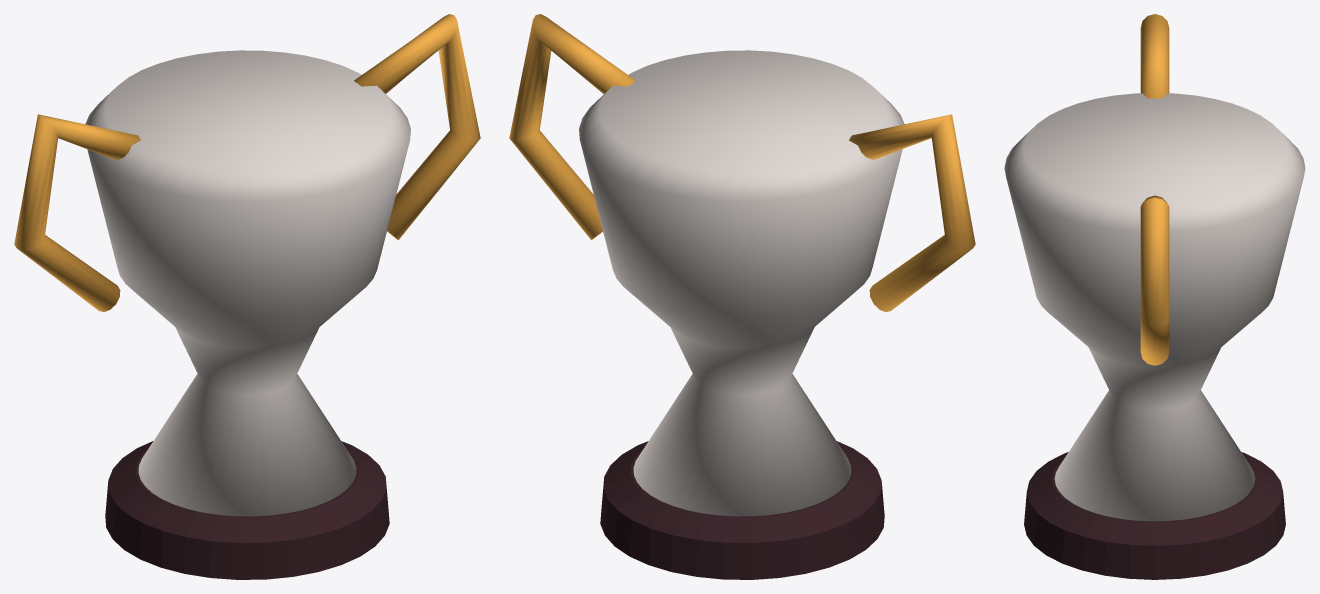
The model's file is gunners-cup-league-cup.glb.
The picture shows the model from 3 angles, left to right: view 1: azimuth 30°, elevation 25°; view 2: azimuth 150°, elevation 25°; view 3: azimuth 270°, elevation 25°; orthographic projection. The views are drawn at different scales.
Parts seen in each view (by area): view 1: gunners-cup-league-cup · Chased silver, gunners-cup-league-cup · Ebonized wood, gunners-cup-league-cup · Gilt; view 2: gunners-cup-league-cup · Chased silver, gunners-cup-league-cup · Ebonized wood, gunners-cup-league-cup · Gilt; view 3: gunners-cup-league-cup · Chased silver, gunners-cup-league-cup · Ebonized wood, gunners-cup-league-cup · Gilt.
Part boxes in pixels (<box>): gunners-cup-league-cup · Chased silver: <box>85,50,410,516</box>; gunners-cup-league-cup · Ebonized wood: <box>105,441,389,579</box>; gunners-cup-league-cup · Gilt: <box>14,14,480,311</box>; gunners-cup-league-cup · Chased silver: <box>579,50,904,516</box>; gunners-cup-league-cup · Ebonized wood: <box>600,441,884,579</box>; gunners-cup-league-cup · Gilt: <box>509,14,975,311</box>; gunners-cup-league-cup · Chased silver: <box>1004,93,1305,521</box>; gunners-cup-league-cup · Ebonized wood: <box>1024,452,1285,579</box>; gunners-cup-league-cup · Gilt: <box>1140,14,1169,365</box>.
Bounding box in the file's own units: 1.76 × 1.65 × 1.08.
